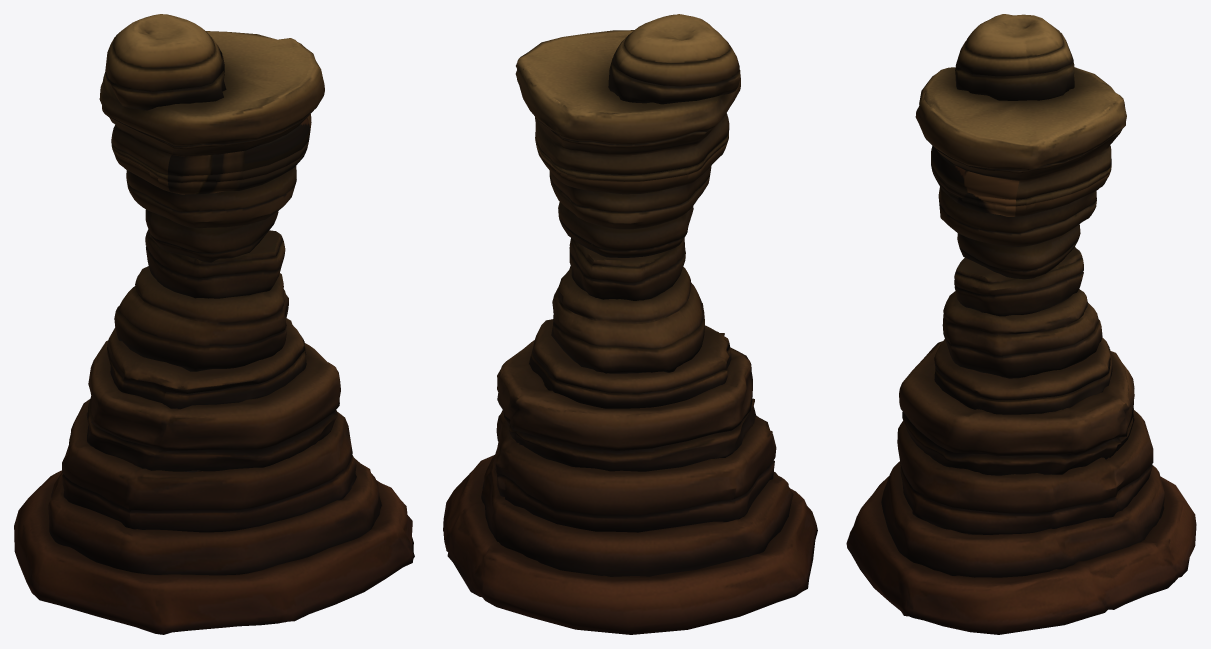
File: rock_set.fbx
3 renders of one model, left to right at view 1: azimuth 30°, elevation 25°; view 2: azimuth 150°, elevation 25°; view 3: azimuth 270°, elevation 25°, orthographic. The views are drawn at different scales.
Visible parts, largest first — view 1: rock_slab_007_mesh, rock_slab_008_mesh, rock_slab_009_mesh, rock_slab_010_mesh; view 2: rock_slab_007_mesh, rock_slab_008_mesh, rock_slab_009_mesh, rock_slab_010_mesh; view 3: rock_slab_007_mesh, rock_slab_008_mesh, rock_slab_009_mesh, rock_slab_010_mesh.
Part boxes in pixels (x1,y1,x2,y2): rock_slab_007_mesh: [14, 318, 414, 634]; rock_slab_008_mesh: [99, 31, 324, 262]; rock_slab_009_mesh: [114, 229, 288, 371]; rock_slab_010_mesh: [105, 14, 226, 110]; rock_slab_007_mesh: [443, 319, 817, 634]; rock_slab_008_mesh: [515, 30, 740, 257]; rock_slab_009_mesh: [551, 238, 704, 373]; rock_slab_010_mesh: [608, 14, 740, 104]; rock_slab_007_mesh: [846, 337, 1196, 634]; rock_slab_008_mesh: [915, 67, 1126, 279]; rock_slab_009_mesh: [942, 247, 1102, 378]; rock_slab_010_mesh: [955, 14, 1074, 100].
Bounding box in the file's own units: 269 × 389 × 243.
